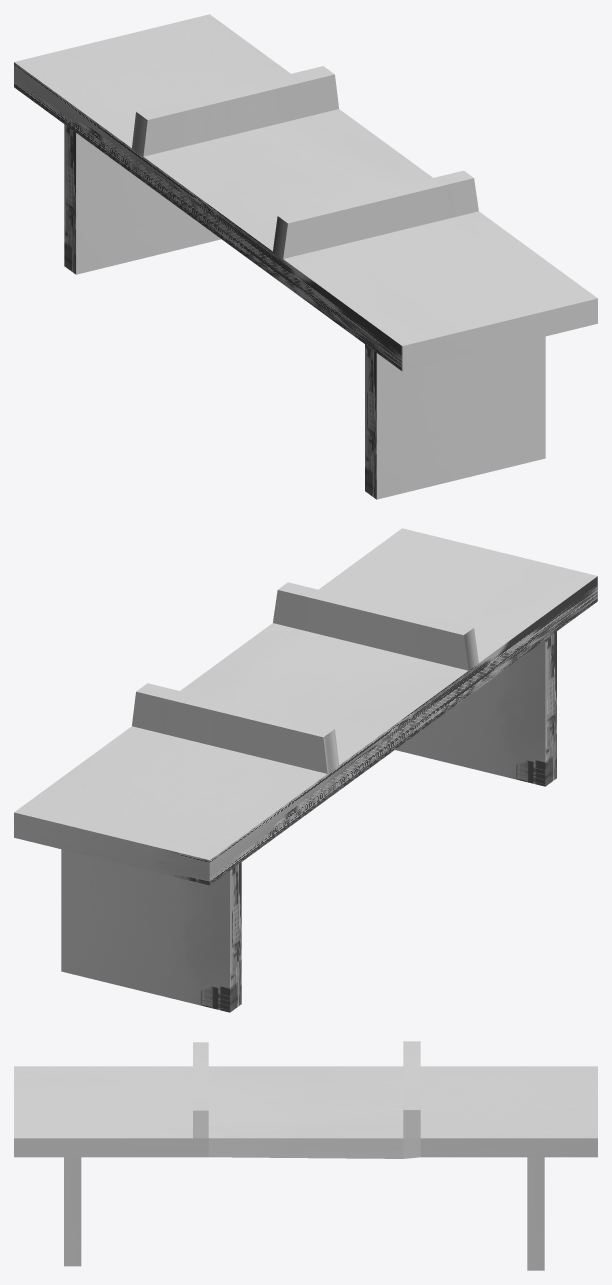
File: Bench.fbx
3 views of the same model, one above another, from view 1: azimuth 30°, elevation 25°; view 2: azimuth 150°, elevation 25°; view 3: azimuth 270°, elevation 25° (orthographic). The views are drawn at different scales.
Parts seen in each view (by area): view 1: Bench; view 2: Bench; view 3: Bench.
Boxes of the visible parts, left/top/right/bottom form: Bench: left=14, top=14, right=597, bottom=499; Bench: left=14, top=528, right=597, bottom=1012; Bench: left=14, top=1041, right=597, bottom=1270.
Size of the model in its own units: 229 by 240 by 777.
